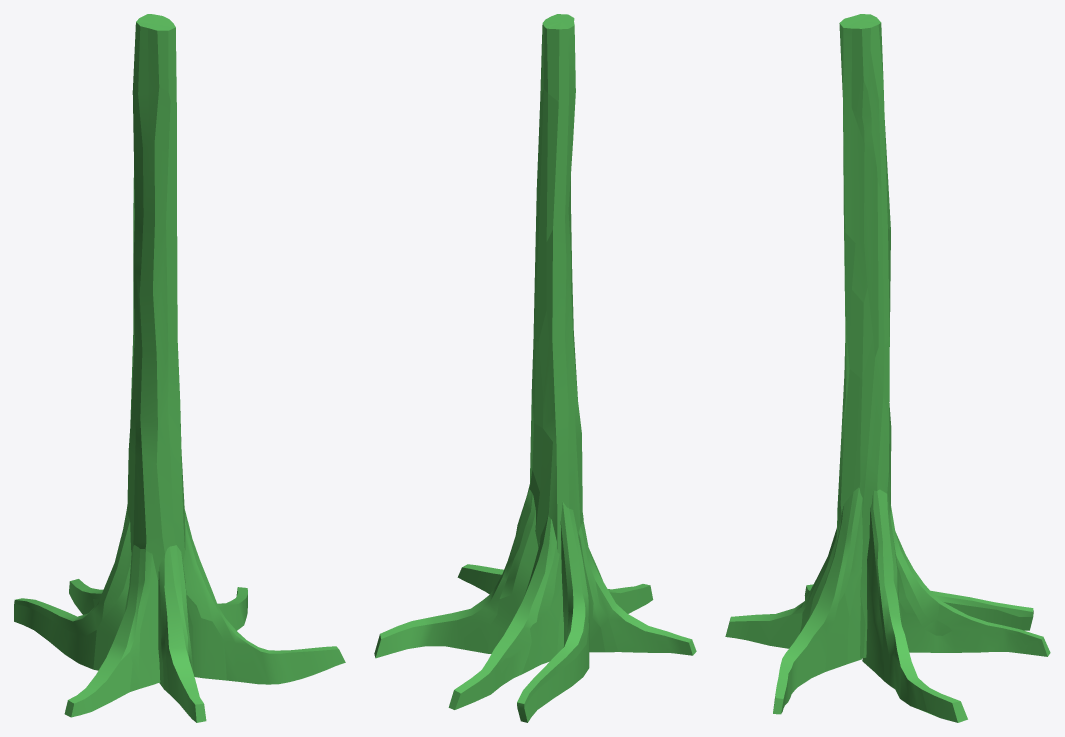
The model's file is jungle_big_tree_C_roots.fbx.
3 views of the same model, side by side, from view 1: azimuth 30°, elevation 25°; view 2: azimuth 150°, elevation 25°; view 3: azimuth 270°, elevation 25° (orthographic). The views are drawn at different scales.
Parts seen in each view (by area): view 1: jungle_big_tree_C, jungle_big_tree_C_root_A, jungle_big_tree_C_root_E, jungle_big_tree_C_root_D, jungle_big_tree_C_root_F, jungle_big_tree_C_root_B, jungle_big_tree_C_root_C; view 2: jungle_big_tree_C, jungle_big_tree_C_root_B, jungle_big_tree_C_root_C, jungle_big_tree_C_root_D, jungle_big_tree_C_root_E, jungle_big_tree_C_root_F, jungle_big_tree_C_root_A; view 3: jungle_big_tree_C, jungle_big_tree_C_root_A, jungle_big_tree_C_root_B, jungle_big_tree_C_root_C, jungle_big_tree_C_root_F, jungle_big_tree_C_root_D.
Part boxes in pixels (x1,y1,x2,y2): jungle_big_tree_C: [127, 14, 185, 580]; jungle_big_tree_C_root_A: [183, 509, 345, 684]; jungle_big_tree_C_root_E: [64, 545, 160, 717]; jungle_big_tree_C_root_D: [14, 507, 131, 670]; jungle_big_tree_C_root_F: [158, 545, 206, 722]; jungle_big_tree_C_root_B: [217, 587, 247, 630]; jungle_big_tree_C_root_C: [69, 579, 103, 614]; jungle_big_tree_C: [529, 14, 583, 577]; jungle_big_tree_C_root_B: [374, 485, 538, 658]; jungle_big_tree_C_root_C: [448, 515, 563, 709]; jungle_big_tree_C_root_D: [517, 501, 589, 722]; jungle_big_tree_C_root_E: [578, 520, 696, 655]; jungle_big_tree_C_root_F: [608, 584, 653, 613]; jungle_big_tree_C_root_A: [457, 564, 503, 594]; jungle_big_tree_C: [836, 14, 891, 657]; jungle_big_tree_C_root_A: [773, 487, 862, 714]; jungle_big_tree_C_root_B: [862, 489, 967, 722]; jungle_big_tree_C_root_C: [890, 504, 1050, 656]; jungle_big_tree_C_root_F: [725, 528, 836, 648]; jungle_big_tree_C_root_D: [930, 590, 1033, 630].
Size of the model in its own units: 339 by 808 by 375.
